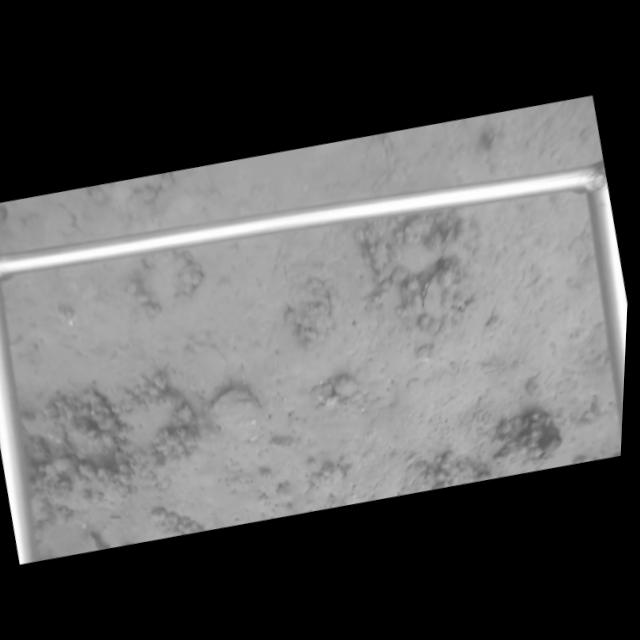Oyster-Closed: (420, 270, 450, 320)
Oyster-Indeterminate: (204, 385, 265, 446)
